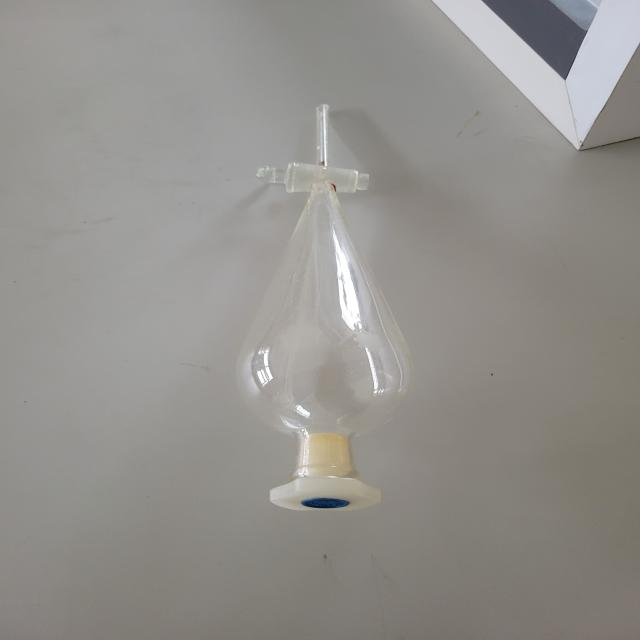Separating_Funnel: (189, 75, 465, 550)
